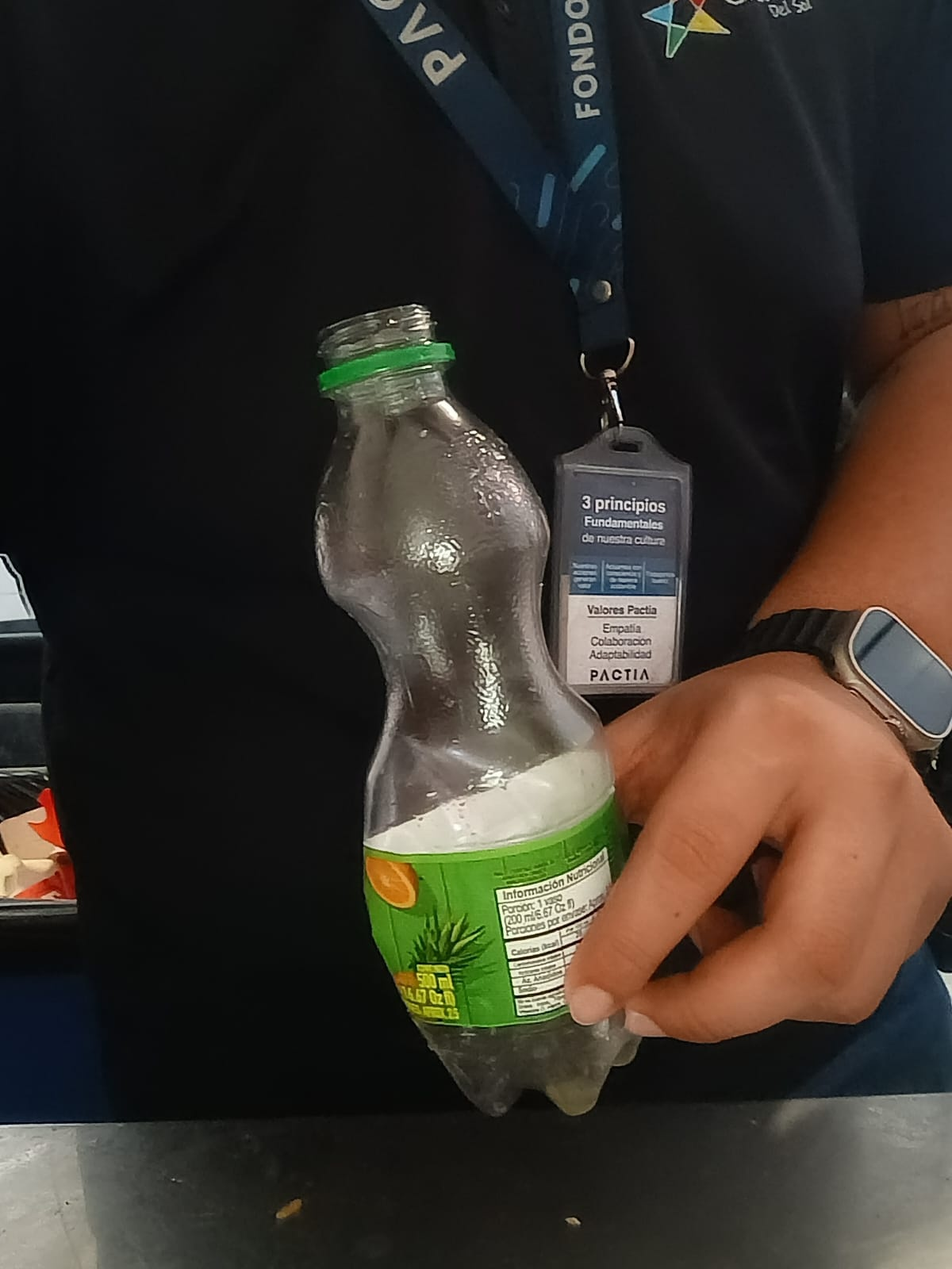Plastico: (313, 303, 616, 1119)
